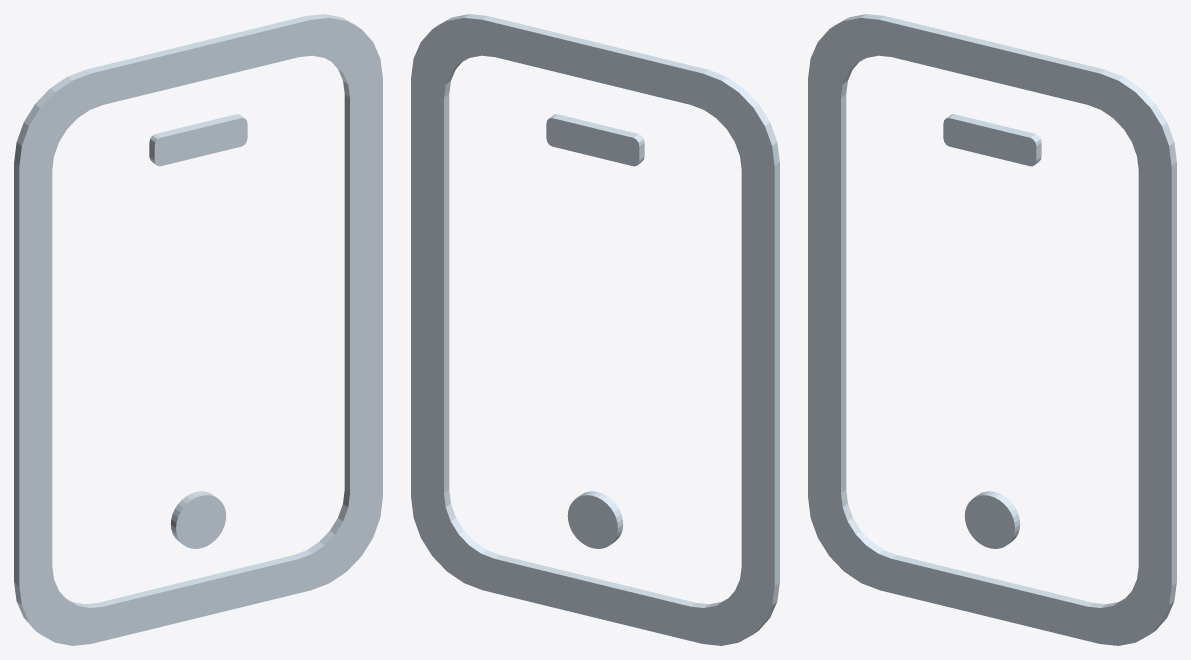
Rendered from Phone_3D_Icon_04.fbx.
3 renders of one model, left to right at view 1: azimuth 30°, elevation 25°; view 2: azimuth 150°, elevation 25°; view 3: azimuth 330°, elevation 25°, orthographic.
Visible parts, largest first — view 1: Phone_3D_Icon_04; view 2: Phone_3D_Icon_04; view 3: Phone_3D_Icon_04.
Part boxes in pixels (x1=…): Phone_3D_Icon_04: x1=14, y1=14, x2=382, y2=645; Phone_3D_Icon_04: x1=411, y1=14, x2=779, y2=645; Phone_3D_Icon_04: x1=808, y1=14, x2=1176, y2=645.
Size of the model in its own units: 79.2 by 119 by 2.
